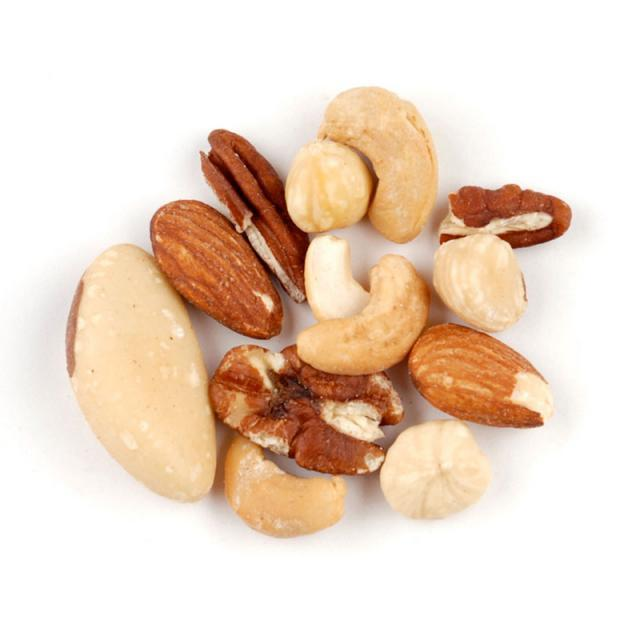Frutta secca: (45, 89, 581, 539)
